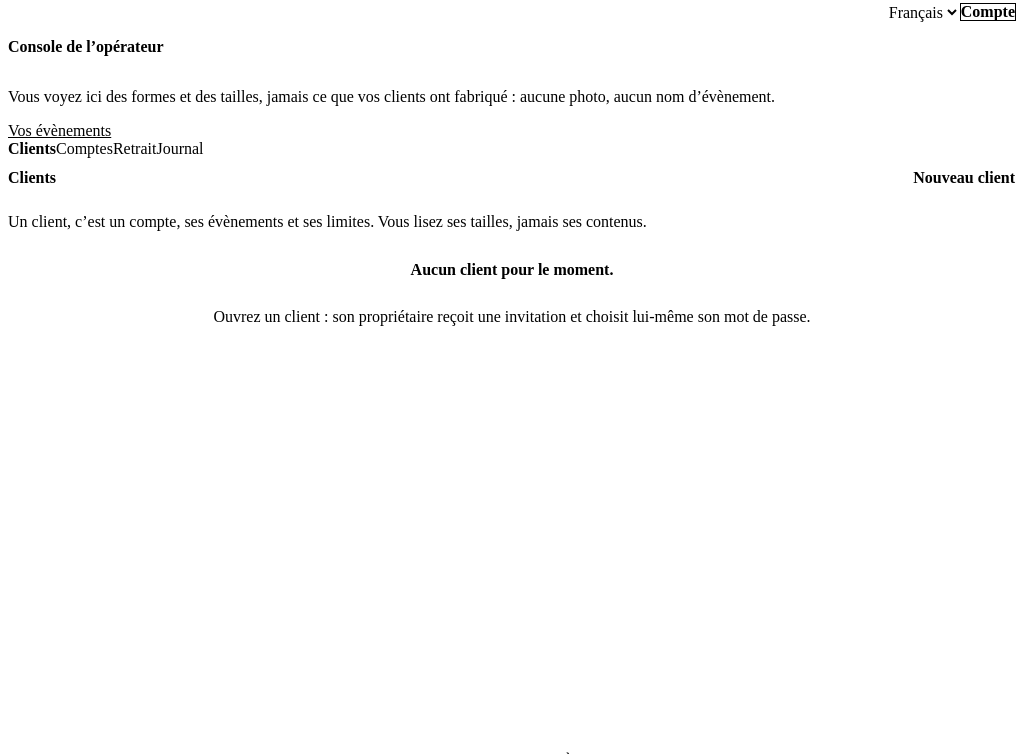
Scenario: opening a client › starts the ceilings from what the box gives a new client, so the form shows what it would provision
Click the button "Nouveau client": (964,178) [912,169,1016,187]
(page scrolled)
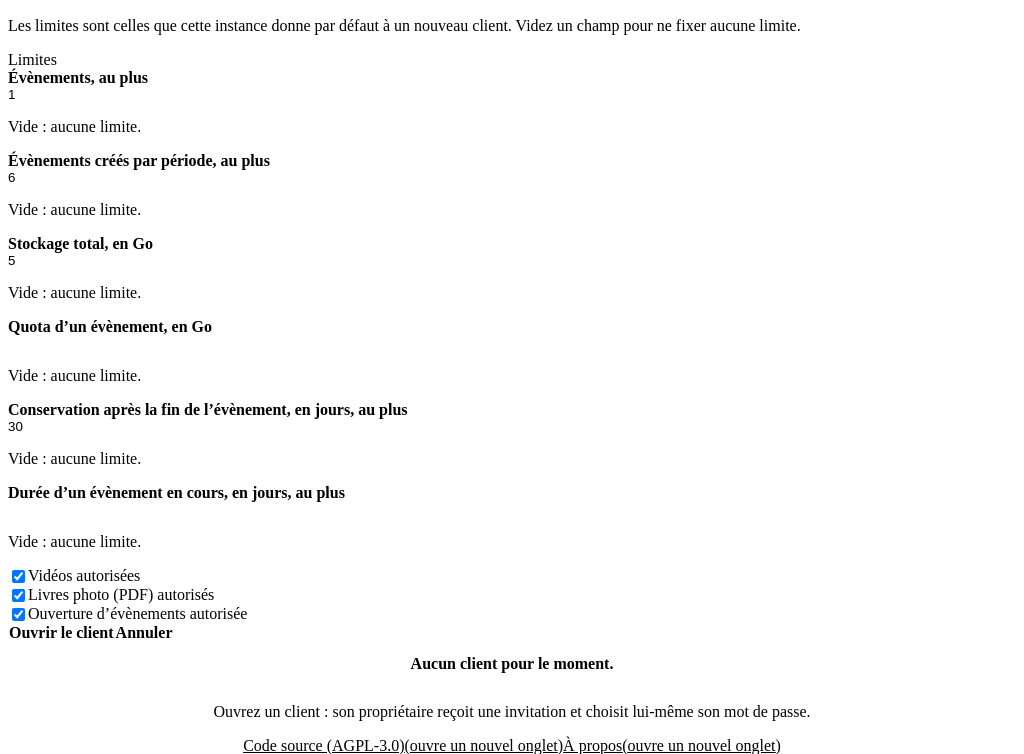
expect the field labelled "Évènements, au plus" holds "1": met, box [8,87,1016,102]
expect the field labelled "Évènements créés par période, au plus" holds "6": met, box [8,170,1016,185]
expect the field labelled "Stockage total, en Go" holds "5": met, box [8,253,1016,268]
